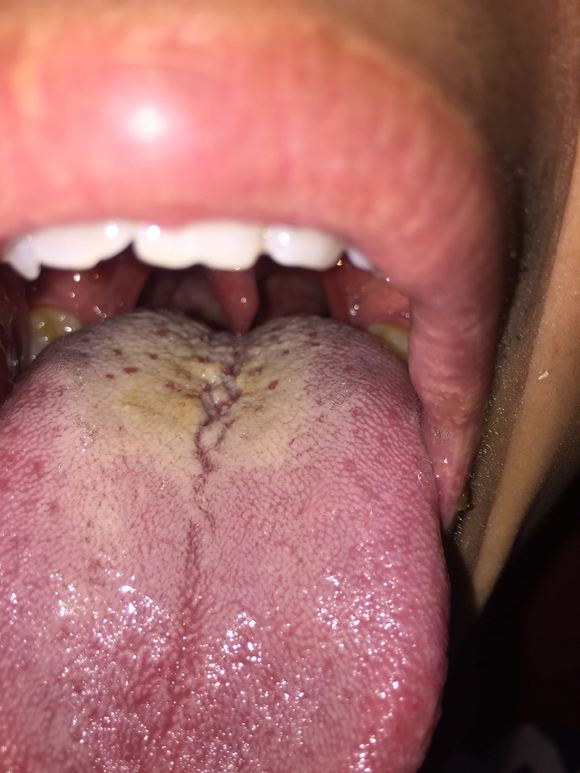hongdianshe: (117, 360, 140, 378), (262, 375, 281, 395), (144, 346, 161, 363), (276, 346, 292, 360)
hongshe: (1, 300, 449, 773)
huangtaishe: (1, 300, 449, 773)
